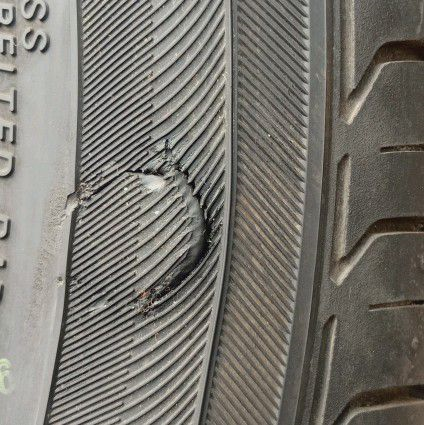cut: (81, 135, 213, 304)
